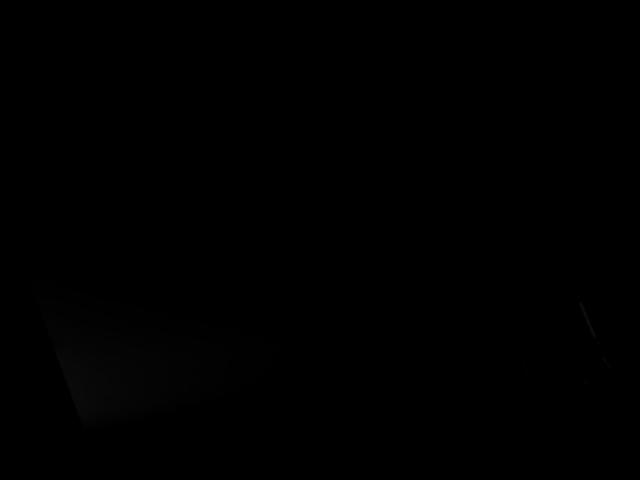hedef: (171, 67, 360, 210)
